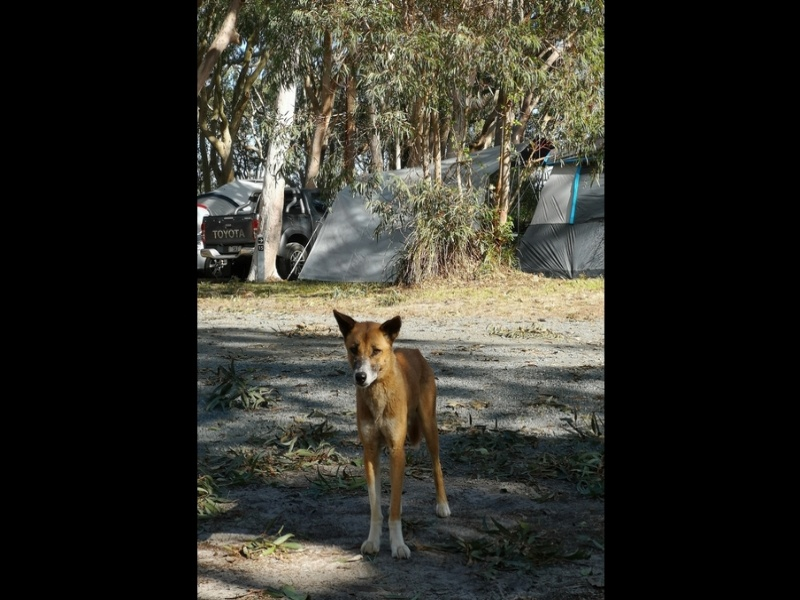dog: (328, 306, 461, 568)
